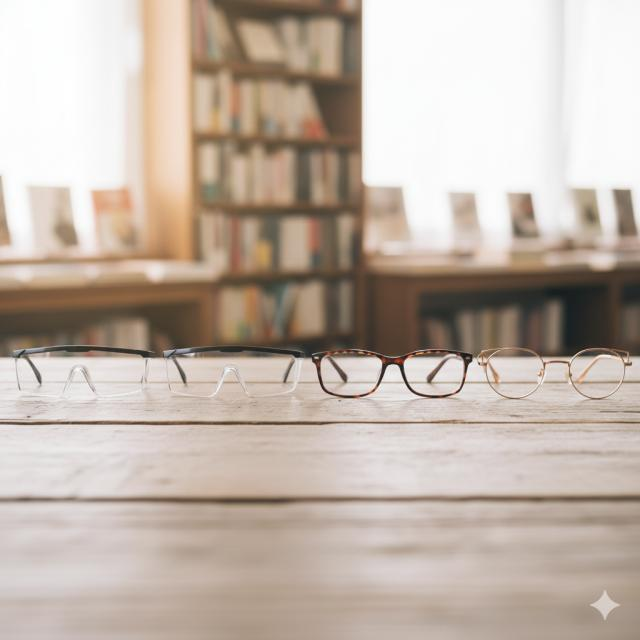oculos-epi: (8, 342, 156, 402), (157, 343, 306, 401)
sem_oculos: (479, 347, 631, 399), (312, 350, 471, 398)
